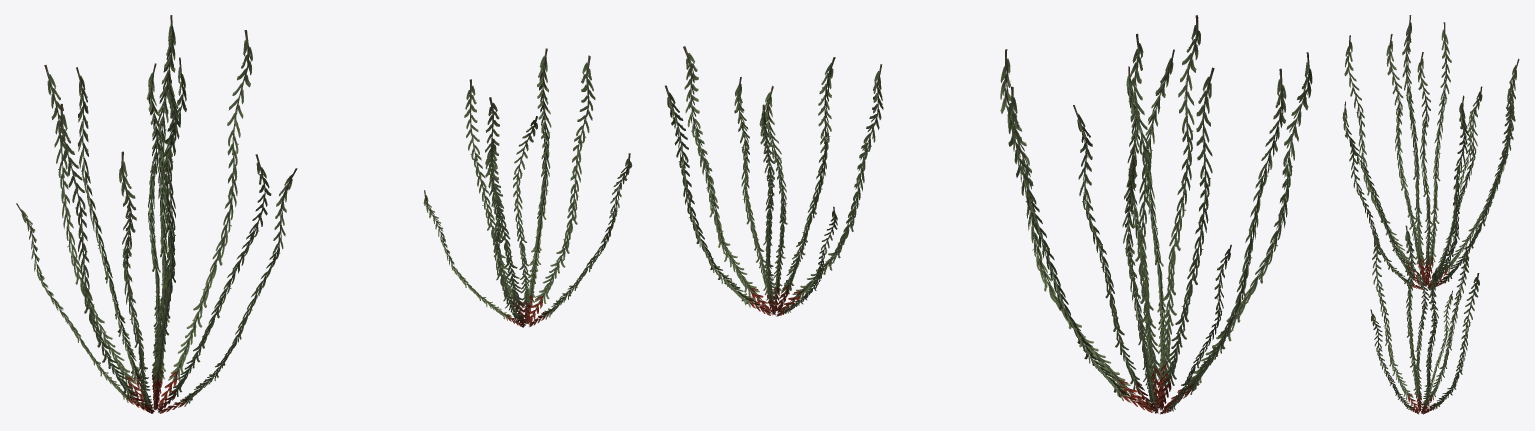
The model's file is ocotillo_b.glb.
3 views of the same model, side by side, from view 1: azimuth 30°, elevation 25°; view 2: azimuth 150°, elevation 25°; view 3: azimuth 270°, elevation 25° (orthographic). The views are drawn at different scales.
Visible parts, largest first — view 1: geometry_0; view 2: geometry_0; view 3: geometry_0.
Boxes of the visible parts, x1,y1,x2,y2 form: geometry_0: (16, 15, 632, 413); geometry_0: (665, 15, 1312, 414); geometry_0: (1342, 15, 1519, 414).
Bounding box in the file's own units: 3489 × 2200 × 1406.
Materials: 1 (1 with a texture image).
